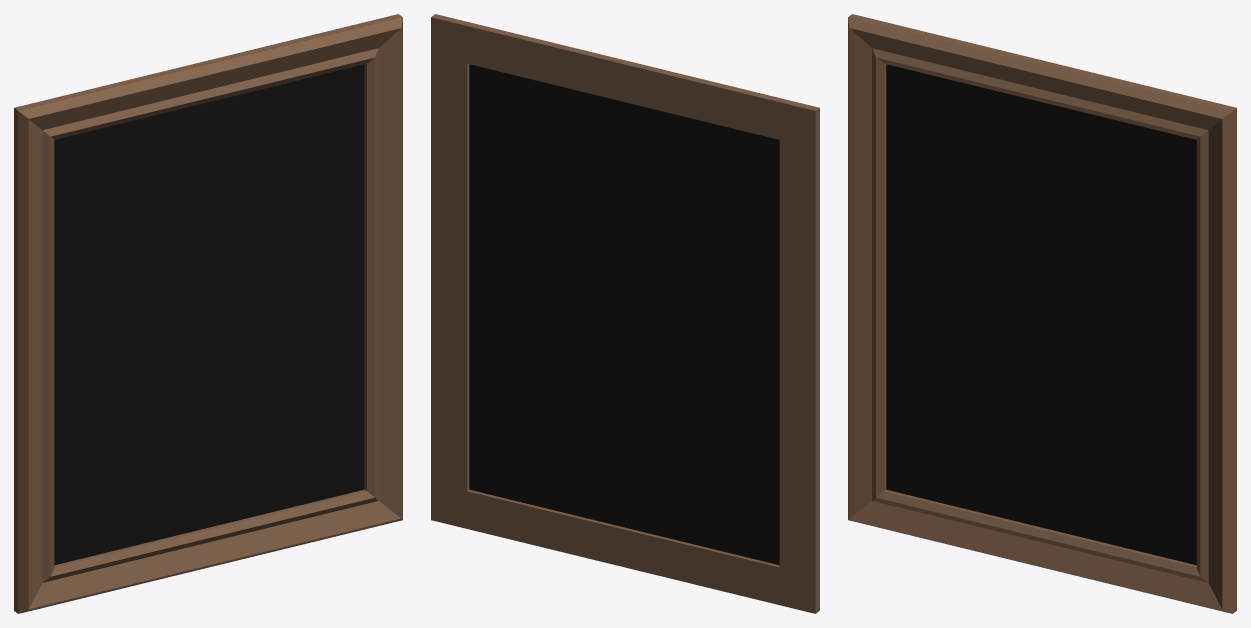
The model's file is Prop_Misc_Picture_Portrait.obj.
3 renders of one model, left to right at view 1: azimuth 30°, elevation 25°; view 2: azimuth 150°, elevation 25°; view 3: azimuth 330°, elevation 25°, orthographic.
Visible parts, largest first — view 1: object1, object2; view 2: object1, object2; view 3: object1, object2.
Boxes of the visible parts, box(x1,y1,x2,y2) form: object1: box(54, 64, 364, 565); object2: box(14, 14, 402, 613); object1: box(469, 64, 779, 565); object2: box(431, 14, 819, 613); object1: box(886, 64, 1196, 565); object2: box(848, 14, 1236, 613).
Bounding box in the file's own units: 0.8 × 1 × 0.0312.
